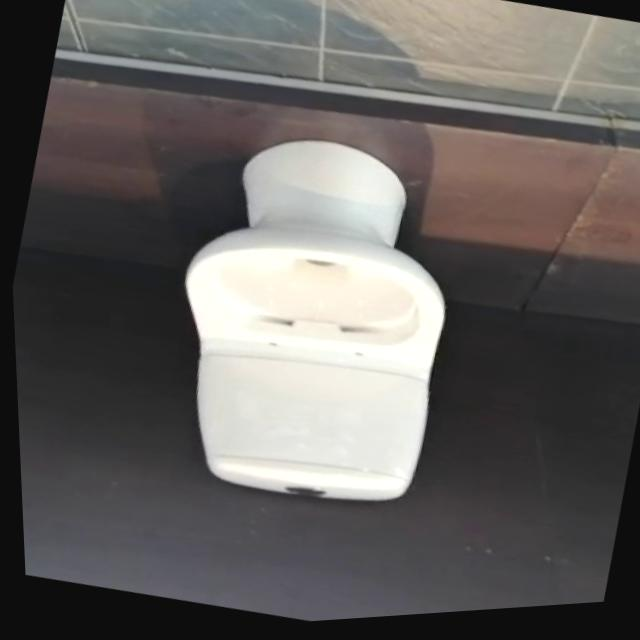toilet: (132, 111, 487, 535)
